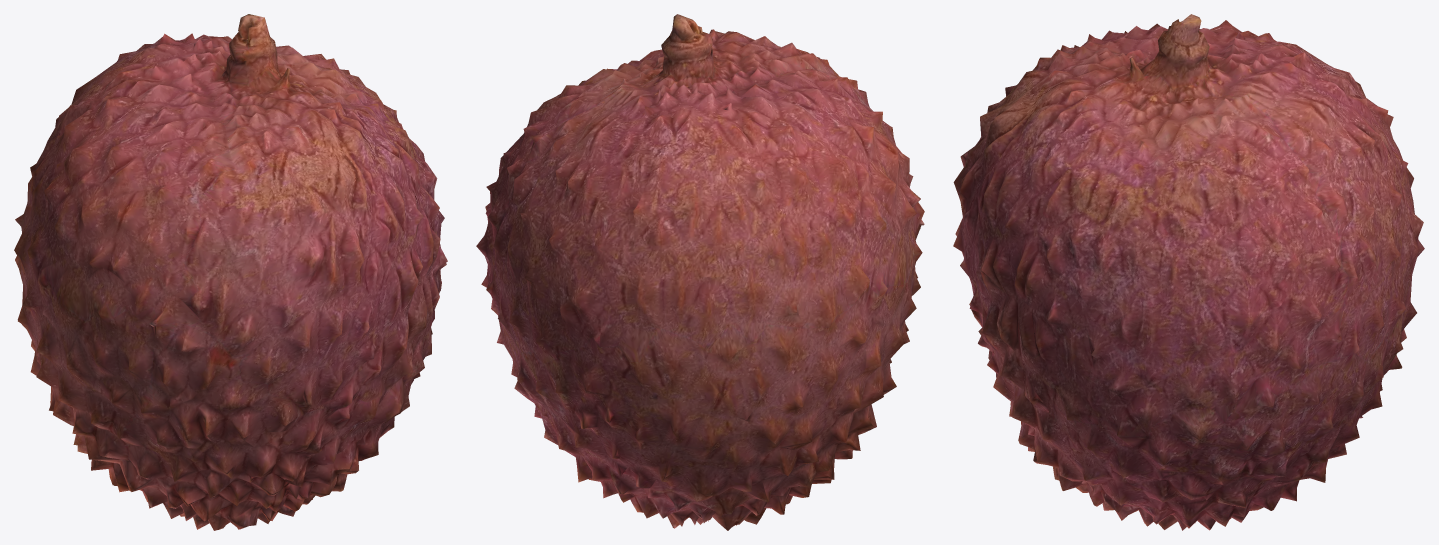
The model's file is food_lychee_01_4k-transformed.glb.
3 renders of one model, left to right at view 1: azimuth 30°, elevation 25°; view 2: azimuth 150°, elevation 25°; view 3: azimuth 270°, elevation 25°, orthographic. The views are drawn at different scales.
Visible parts, largest first — view 1: food_lychee_01; view 2: food_lychee_01; view 3: food_lychee_01.
Part boxes in pixels (x1,y1,x2,y2): food_lychee_01: (14,14,447,530); food_lychee_01: (476,14,924,530); food_lychee_01: (953,14,1424,530).
Bounding box in the file's own units: 0.0409 × 0.0506 × 0.042.
Materials: 1 (1 with a texture image).
